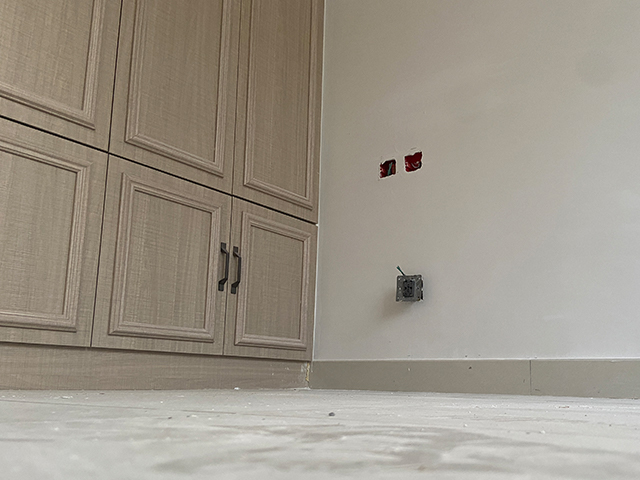cabinet: (1, 1, 326, 393)
